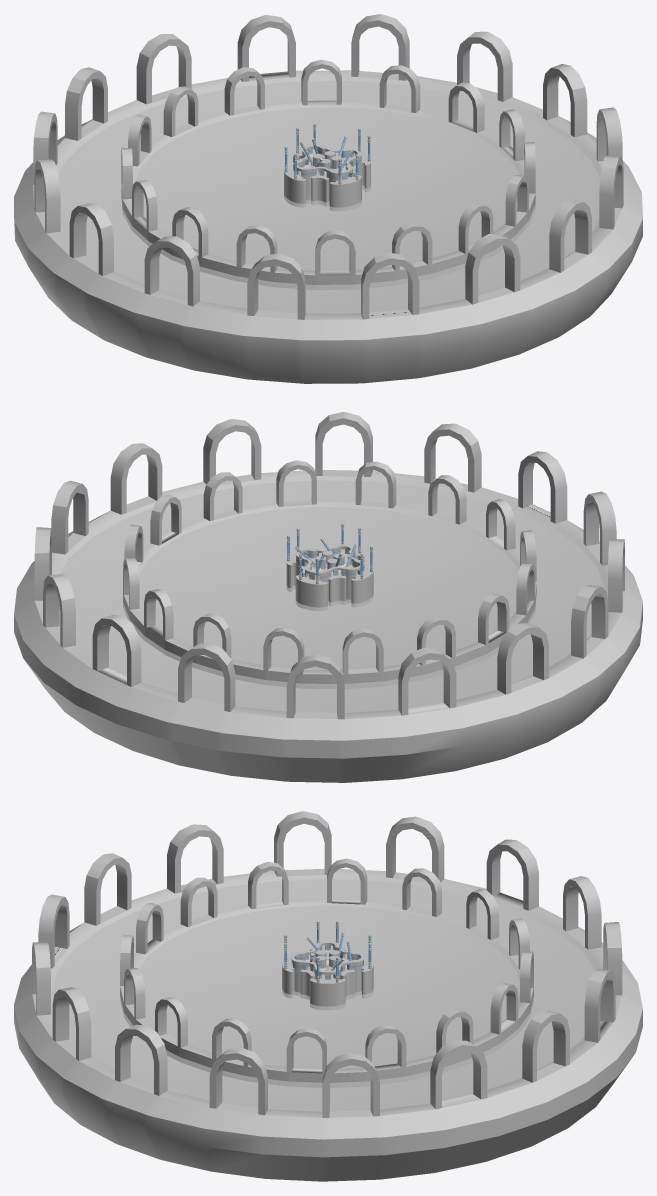
File: Aquatic_01.fbx
3 views of the same model, one above another, from view 1: azimuth 30°, elevation 25°; view 2: azimuth 150°, elevation 25°; view 3: azimuth 270°, elevation 25° (orthographic).
Visible parts, largest first — view 1: FOUNTAIN, WATER.001, Plane.001, PILLAR.013; view 2: FOUNTAIN, WATER.001, Plane.001, PILLAR.013; view 3: FOUNTAIN, WATER.001, Plane.001, PILLAR.013.
Part boxes in pixels (left/top/right/bottom): FOUNTAIN: left=14, top=14, right=642, bottom=383; WATER.001: left=58, top=81, right=600, bottom=313; Plane.001: left=284, top=144, right=370, bottom=210; PILLAR.013: left=284, top=123, right=370, bottom=184; FOUNTAIN: left=14, top=412, right=642, bottom=782; WATER.001: left=59, top=480, right=604, bottom=712; Plane.001: left=286, top=544, right=373, bottom=610; PILLAR.013: left=287, top=523, right=372, bottom=584; FOUNTAIN: left=14, top=811, right=642, bottom=1181; WATER.001: left=51, top=879, right=594, bottom=1111; Plane.001: left=282, top=941, right=373, bottom=1009; PILLAR.013: left=284, top=921, right=371, bottom=982.
Bounding box in the file's own units: 389 × 83.66 × 389.
